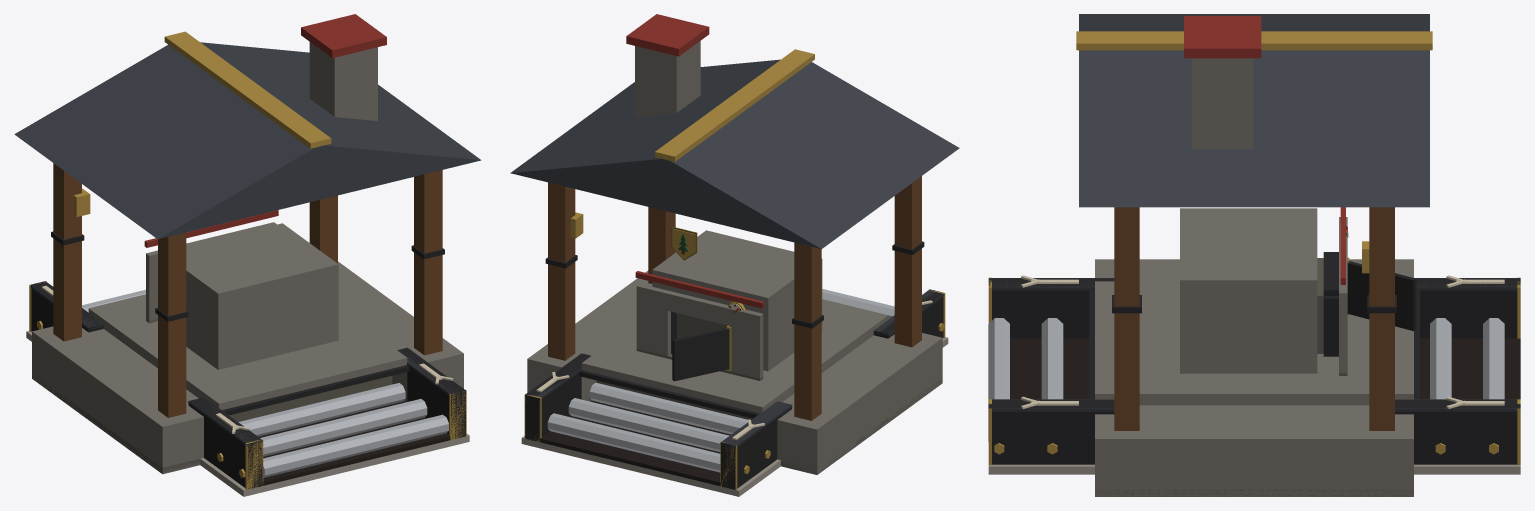
Rendered from SmeltingFurnace.glb.
3 views of the same model, side by side, from view 1: azimuth 30°, elevation 25°; view 2: azimuth 150°, elevation 25°; view 3: azimuth 270°, elevation 25° (orthographic). The views are drawn at different scales.
Visible parts, largest first — view 1: Body, Rollers, Belt; view 2: Body, Rollers, Belt, FurnaceDoor; view 3: Body, Rollers, Belt, FurnaceDoor, ArrowDecal.
Boxes of the visible parts, bbox=[...] form: Body: bbox=[14, 14, 481, 496]; Rollers: bbox=[37, 289, 448, 477]; Belt: bbox=[258, 401, 450, 485]; Body: bbox=[510, 14, 959, 496]; Rollers: bbox=[547, 289, 944, 473]; Belt: bbox=[539, 400, 730, 485]; FurnaceDoor: bbox=[672, 325, 731, 381]; Body: bbox=[988, 14, 1520, 496]; Rollers: bbox=[988, 318, 1504, 454]; Belt: bbox=[1010, 338, 1520, 399]; FurnaceDoor: bbox=[1347, 257, 1416, 330]; ArrowDecal: bbox=[1021, 275, 1504, 408].
Bounding box in the file's own units: 8.6 × 8.8 × 10.
